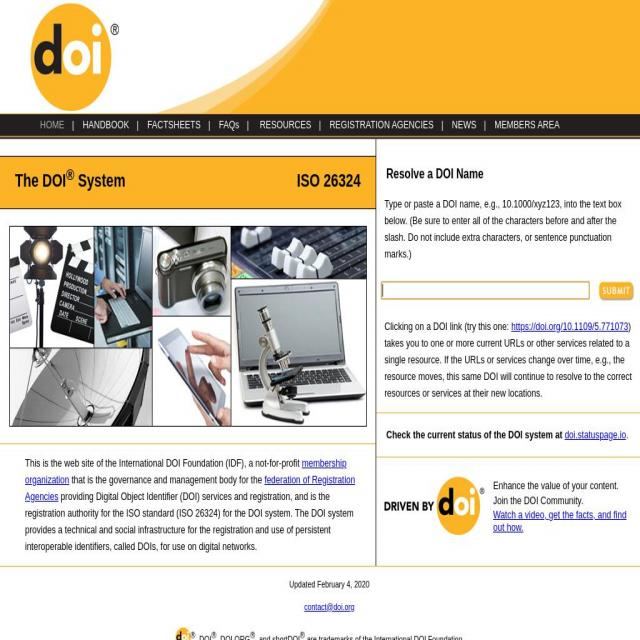field: (379, 276, 633, 312)
navigation-links: (36, 105, 564, 138)
